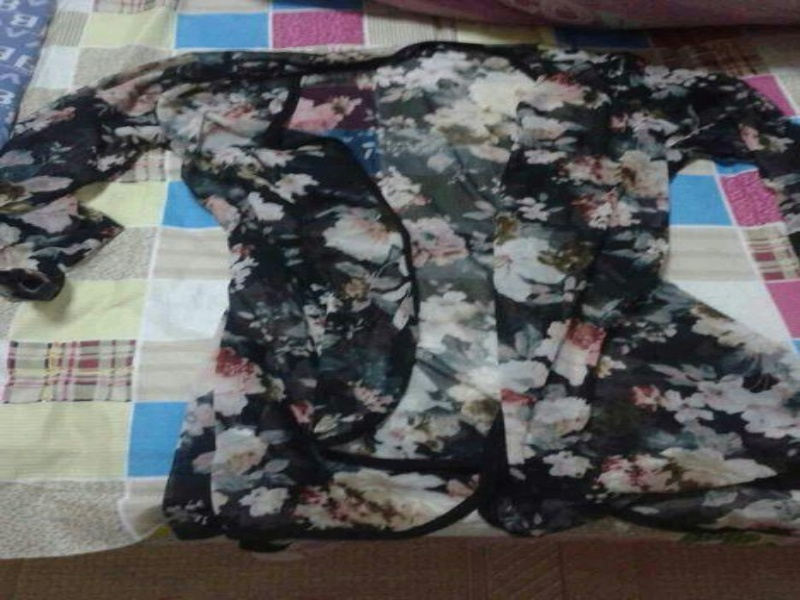long_sleeved_outwear: (0, 37, 798, 563)
